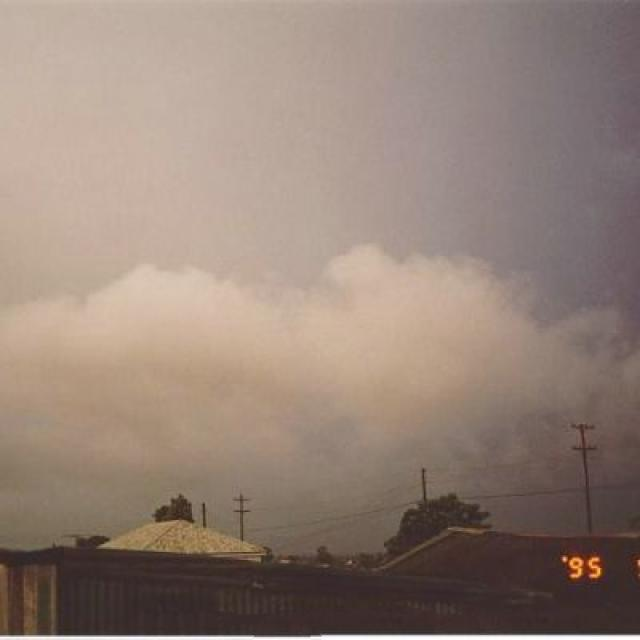Ns: (1, 58, 640, 427)
